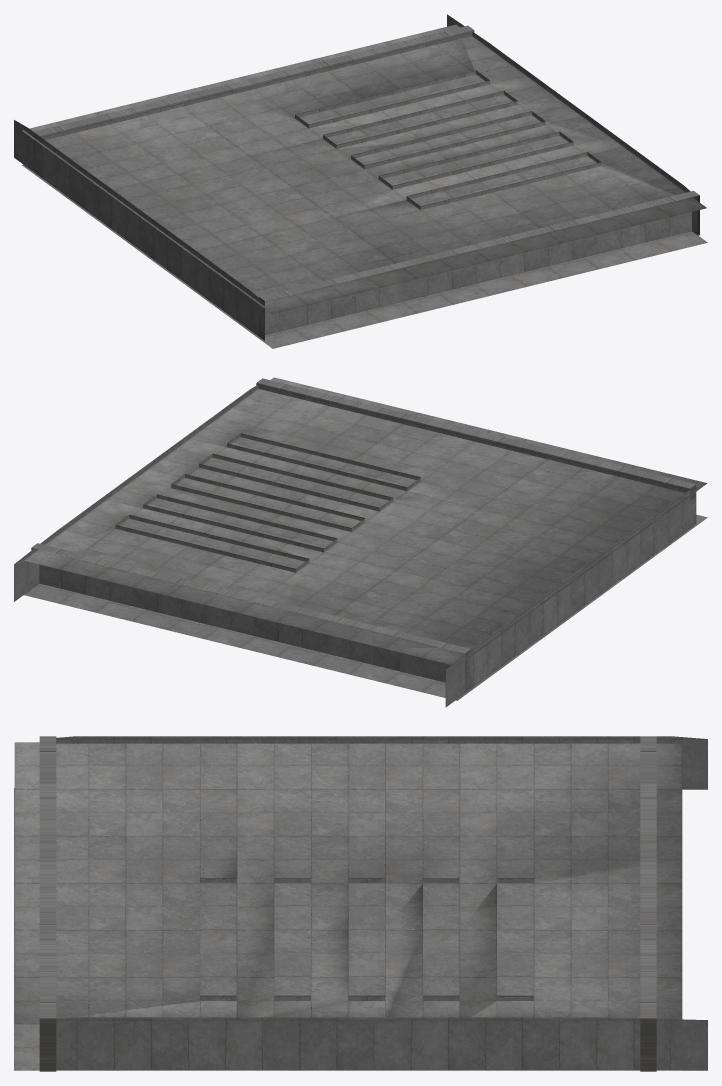
File: garage-brutalist-interior.glb
The picture shows the model from 3 angles, top to bottom: view 1: azimuth 30°, elevation 25°; view 2: azimuth 150°, elevation 25°; view 3: azimuth 270°, elevation 25°; orthographic projection. The views are drawn at different scales.
Visible parts, largest first — view 1: Plane.044; view 2: Plane.044; view 3: Plane.044.
Boxes of the visible parts, <box> form: Plane.044: <box>14,14,707,348</box>; Plane.044: <box>14,377,707,707</box>; Plane.044: <box>14,736,707,1071</box>.
Size of the model in its own units: 40.79 by 3.58 by 42.2.
Materials: 1 (1 with a texture image).
